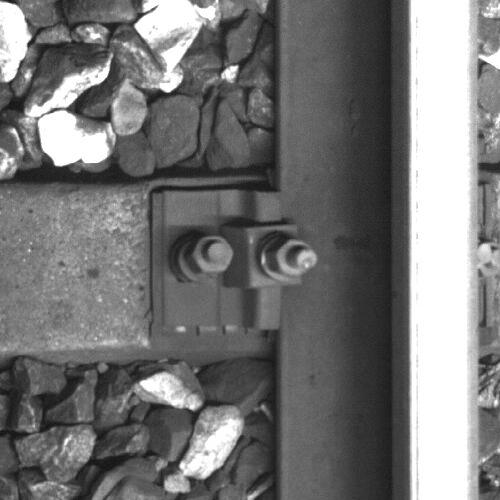kb: (162, 188, 320, 333)
nut: (270, 236, 318, 279), (188, 237, 236, 274)
rail: (409, 1, 479, 500)
tie_concr: (1, 186, 270, 346)
